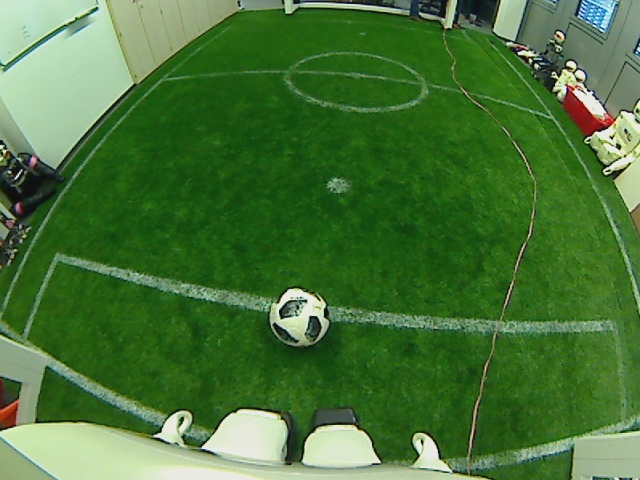ball: (268, 286, 331, 349)
